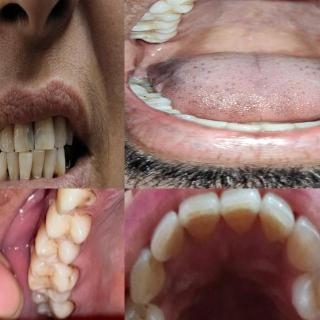calculus: (50, 154, 60, 180), (4, 162, 12, 188)
cavities: (23, 119, 41, 147), (128, 77, 156, 93), (139, 92, 171, 105)
maligned: (42, 144, 58, 178), (18, 147, 34, 179), (30, 147, 46, 175), (54, 116, 66, 150)
plaque: (40, 190, 64, 221), (22, 237, 42, 265), (274, 222, 292, 248)
stains: (62, 208, 96, 238), (55, 260, 81, 291), (55, 294, 81, 320), (74, 188, 102, 212), (61, 241, 85, 259), (166, 10, 188, 20), (178, 1, 197, 11)
